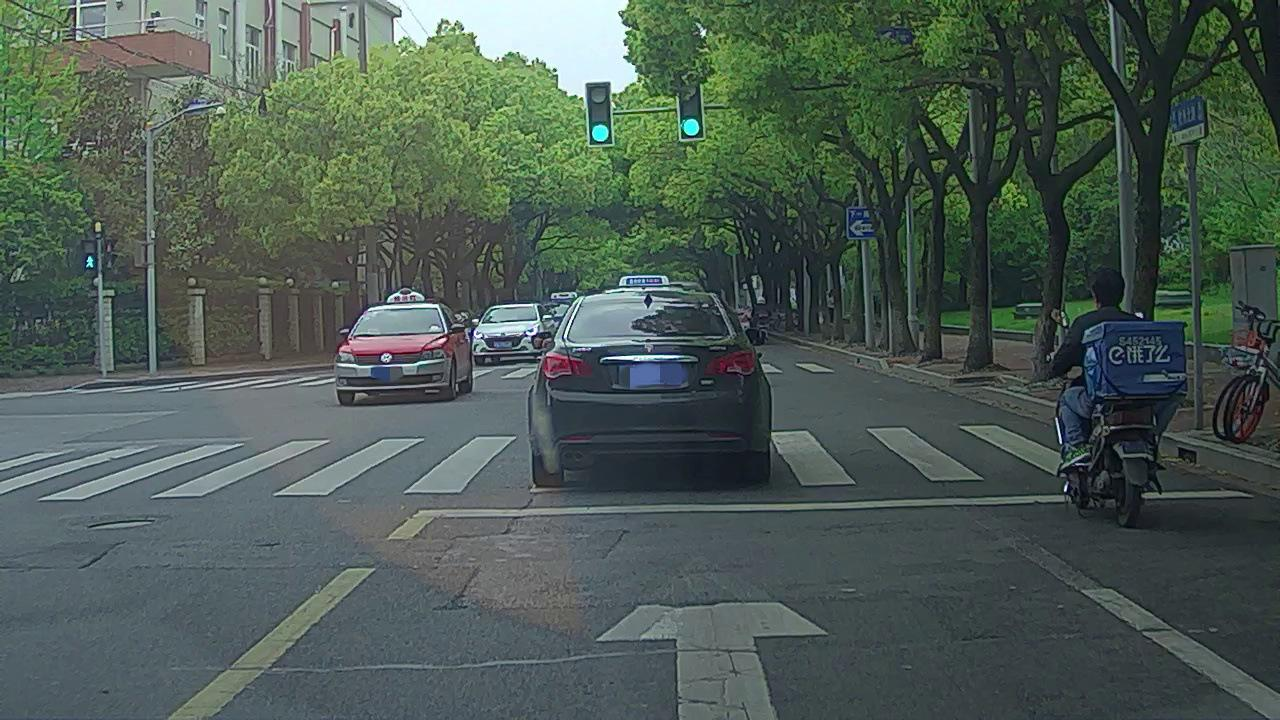traffic_light: (589, 80, 613, 148), (678, 84, 704, 138)
